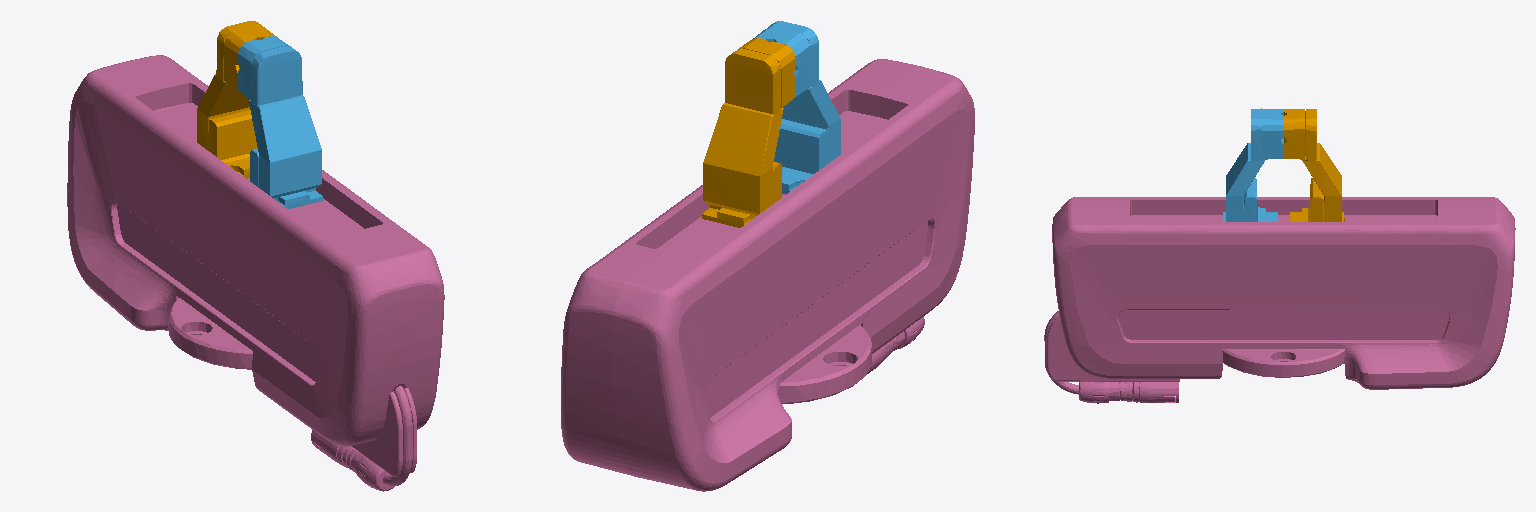
robot.urdf — panda_gripper:
<?xml version="1.0"?>
<robot name="panda_gripper">
  <link name="base_link_x"/>

  <joint name="dummy_x_translation_joint" type="prismatic">
    <parent link="base_link_x"/>
    <child link="base_link_y"/>
    <origin rpy="0 0 0" xyz="0 0 0"/>
    <axis xyz="1 0 0"/>
    <limit effort="300" lower="-10" upper="10" velocity="2.1750"/>
  </joint>

  <link name="base_link_y"/>

  <joint name="dummy_y_translation_joint" type="prismatic">
    <parent link="base_link_y"/>
    <child link="base_link_z"/>
    <origin rpy="0 0 0" xyz="0 0 0"/>
    <axis xyz="0 1 0"/>
    <limit effort="300" lower="-10" upper="10" velocity="2.1750"/>
  </joint>

  <link name="base_link_z"/>

  <joint name="dummy_z_translation_joint" type="prismatic">
    <parent link="base_link_z"/>
    <child link="base_link_roll"/>
    <origin rpy="0 0 0" xyz="0 0 0"/>
    <axis xyz="0 0 1"/>
    <limit effort="300" lower="-10" upper="10" velocity="2.1750"/>
  </joint>

  <link name="base_link_roll"/>

  <joint name="dummy_x_rotation_joint" type="revolute">
    <parent link="base_link_roll"/>
    <child link="base_link_pitch"/>
    <origin rpy="0 0 0" xyz="0 0 0"/>
    <axis xyz="1 0 0"/>
    <limit effort="100.95" velocity="108.48" lower="-6.283185" upper="6.283185"/>
  </joint>

  <link name="base_link_pitch"/>

  <joint name="dummy_y_rotation_joint" type="revolute">
    <parent link="base_link_pitch"/>
    <child link="base_link_yaw"/>
    <origin rpy="0 0 0" xyz="0 0 0"/>
    <axis xyz="0 1 0"/>
    <limit effort="100.95" velocity="108.48" lower="-6.283185" upper="6.283185"/>
  </joint>

  <link name="base_link_yaw"/>

  <joint name="dummy_z_rotation_joint" type="revolute">
    <parent link="base_link_yaw"/>
    <child link="panda_hand"/>
    <origin rpy="0 0 0" xyz="0 0 0"/>
    <axis xyz="0 0 1"/>
    <limit effort="100.95" velocity="108.48" lower="-6.283185" upper="6.283185"/>
  </joint>

  <link name="panda_hand">
    <visual>
      <geometry>
        <mesh filename="meshes/visual/hand.obj"/>
      </geometry>
    </visual>
    <collision>
      <origin rpy="1.570795 0 0" xyz="0 0 0.02617"/>
      <geometry>
        <box size="0.036 0.08 0.2"/>
      </geometry>
    </collision>
    <collision>
      <origin rpy="0 0 0" xyz="0 0 0.0003"/>
      <geometry>
        <cylinder radius="0.03" length="0.0077"/>
      </geometry>
    </collision>
    <inertial>
      <origin rpy="0 0 0" xyz="-0.01 0 0.03"/>
      <mass value="0.73"/>
      <inertia ixx="0.001" ixy="0" ixz="0" iyy="0.0025" iyz="0" izz="0.0017"/>
    </inertial>
  </link>
  <link name="panda_hand_tcp"/>
  <joint name="panda_hand_tcp_joint" type="fixed">
    <origin rpy="0 0 0" xyz="0 0 0.1034"/>
    <parent link="panda_hand"/>
    <child link="panda_hand_tcp"/>
  </joint>
  <link name="panda_leftfinger">
    <visual>
      <geometry>
        <mesh filename="meshes/visual/finger.obj"/>
      </geometry>
    </visual>
    <collision>
      <origin rpy="0 0 0" xyz="0 18.5e-3 11e-3"/>
      <geometry>
        <box size="22e-3 15e-3 20e-3"/>
      </geometry>
    </collision>
    <collision>
      <origin rpy="0 0 0" xyz="0 6.8e-3 2.2e-3"/>
      <geometry>
        <box size="22e-3 8.8e-3 3.8e-3"/>
      </geometry>
    </collision>
    <collision>
      <origin rpy="0.5235987755982988 0 0" xyz="0 15.9e-3 28.35e-3"/>
      <geometry>
        <box size="17.5e-3 7e-3 23.5e-3"/>
      </geometry>
    </collision>
    <collision>
      <origin rpy="0 0 0" xyz="0 7.58e-3 45.25e-3"/>
      <geometry>
        <box size="17.5e-3 15.2e-3 18.5e-3"/>
      </geometry>
    </collision>
    <inertial>
      <origin rpy="0 0 0" xyz="0 0 0"/>
      <mass value="0.015"/>
      <inertia ixx="2.3749999999999997e-06" ixy="0" ixz="0" iyy="2.3749999999999997e-06"
               iyz="0" izz="7.5e-07"/>
    </inertial>
  </link>
  <link name="panda_rightfinger">
    <visual>
      <origin rpy="0 0 3.141592653589793" xyz="0 0 0"/>
      <geometry>
        <mesh filename="meshes/visual/finger.obj"/>
      </geometry>
    </visual>
    <collision>
      <origin rpy="0 0 0" xyz="0 -18.5e-3 11e-3"/>
      <geometry>
        <box size="22e-3 15e-3 20e-3"/>
      </geometry>
    </collision>
    <collision>
      <origin rpy="0 0 0" xyz="0 -6.8e-3 2.2e-3"/>
      <geometry>
        <box size="22e-3 8.8e-3 3.8e-3"/>
      </geometry>
    </collision>
    <collision>
      <origin rpy="-0.5235987755982988 0 0" xyz="0 -15.9e-3 28.35e-3"/>
      <geometry>
        <box size="17.5e-3 7e-3 23.5e-3"/>
      </geometry>
    </collision>
    <collision>
      <origin rpy="0 0 0" xyz="0 -7.58e-3 45.25e-3"/>
      <geometry>
        <box size="17.5e-3 15.2e-3 18.5e-3"/>
      </geometry>
    </collision>
    <inertial>
      <origin rpy="0 0 0" xyz="0 0 0"/>
      <mass value="0.015"/>
      <inertia ixx="2.3749999999999997e-06" ixy="0" ixz="0" iyy="2.3749999999999997e-06"
               iyz="0" izz="7.5e-07"/>
    </inertial>
  </link>
  <joint name="panda_finger_joint1" type="prismatic">
    <parent link="panda_hand"/>
    <child link="panda_leftfinger"/>
    <origin rpy="0 0 0" xyz="0 0 0.0584"/>
    <axis xyz="0 1 0"/>
    <limit effort="100" lower="0.0" upper="0.04" velocity="0.2"/>
    <dynamics damping="0.3"/>
  </joint>
  <joint name="panda_finger_joint2" type="prismatic">
    <parent link="panda_hand"/>
    <child link="panda_rightfinger"/>
    <origin rpy="0 0 0" xyz="0 0 0.0584"/>
    <axis xyz="0 -1 0"/>
    <limit effort="100" lower="0.0" upper="0.04" velocity="0.2"/>
    <mimic joint="panda_finger_joint1" multiplier="1" offset="0"/>
    <dynamics damping="0.3"/>
  </joint>
</robot>

--- Facts derived from the render (not from the file) ---
Views: 3 orthographic renders of the robot side by side, from view 1: azimuth 30°, elevation 25°; view 2: azimuth 150°, elevation 25°; view 3: azimuth 270°, elevation 25°.
Robot: panda_gripper — 10 links, 9 joints (3 revolute, 5 prismatic, 1 fixed); root link base_link_x; default pose: all joints at 0.
Links seen in each view (by area): view 1: panda_hand, panda_rightfinger, panda_leftfinger; view 2: panda_hand, panda_leftfinger, panda_rightfinger; view 3: panda_hand, panda_leftfinger, panda_rightfinger.
Link boxes in pixels (box(x1,y1,x2,y2)): panda_hand: box(67, 55, 444, 491); panda_rightfinger: box(238, 36, 323, 208); panda_leftfinger: box(197, 21, 277, 178); panda_hand: box(561, 59, 974, 491); panda_leftfinger: box(702, 38, 795, 227); panda_rightfinger: box(753, 21, 840, 194); panda_hand: box(1044, 197, 1515, 403); panda_leftfinger: box(1284, 109, 1344, 221); panda_rightfinger: box(1223, 108, 1283, 221).
Bounding box of the posed robot: 0.063 × 0.2045 × 0.1382 m (x, y, z).
Meshes: 2 distinct files referenced, 3 mesh visuals loaded (2 OBJ).